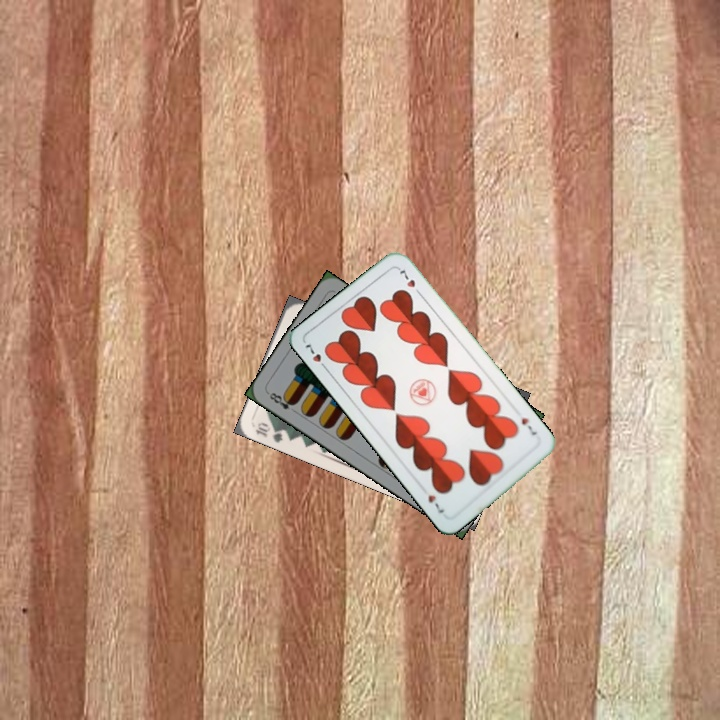E8: (264, 388, 299, 416)
G10: (251, 418, 286, 446)
H7: (301, 340, 330, 373), (517, 414, 539, 438)
